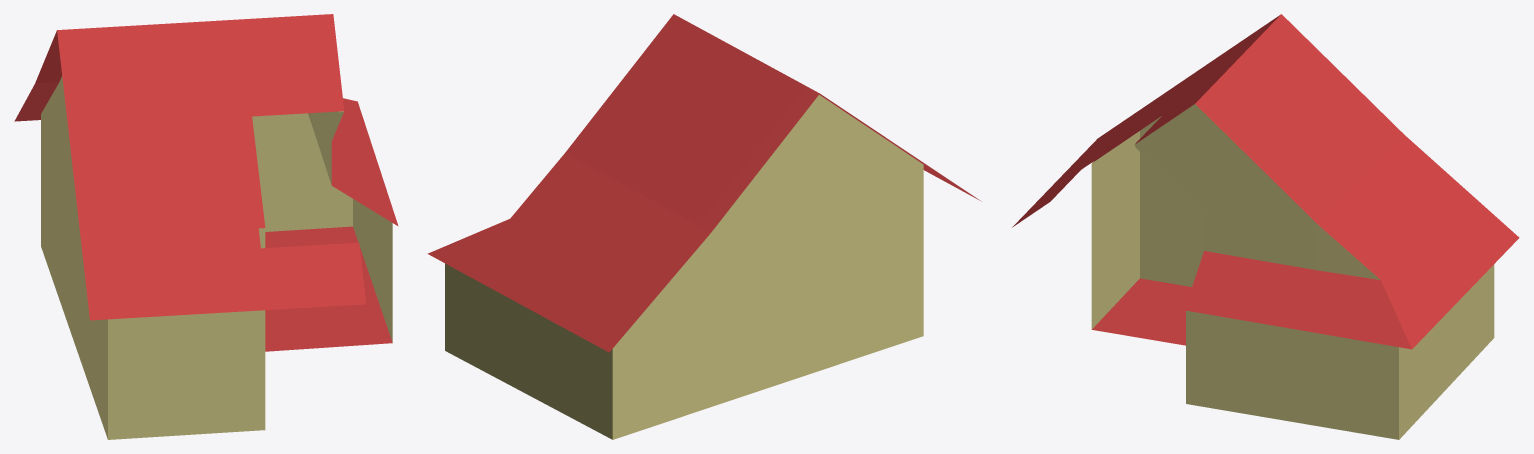
The picture shows the model from 3 angles, left to right: view 1: azimuth 30°, elevation 25°; view 2: azimuth 150°, elevation 25°; view 3: azimuth 270°, elevation 25°; orthographic projection. The views are drawn at different scales.
Size of the model in its own units: 24.38 by 28.43 by 17.18.
